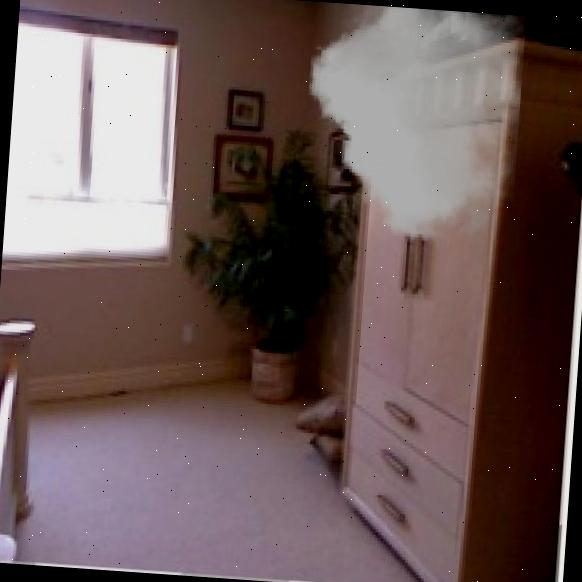smoke: (298, 1, 526, 249)
